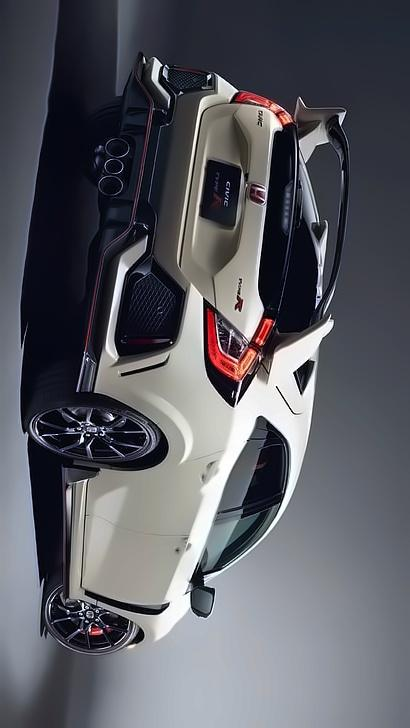Car boot: (178, 95, 325, 418)
Driver-s door - -F-R-: (83, 514, 299, 606)
Fender - -F-R-: (69, 591, 189, 641)
Fender - -R-R-: (68, 376, 242, 474)
Passenger-s door - -R-R-: (83, 437, 299, 534)
Rear bumper: (70, 46, 218, 433)
Rear light - -L-: (228, 78, 301, 129)
Rear light - -R-: (196, 293, 282, 413)
Side bumper - -R-: (58, 448, 92, 607)
Side mirror - -R-: (180, 578, 225, 626)
